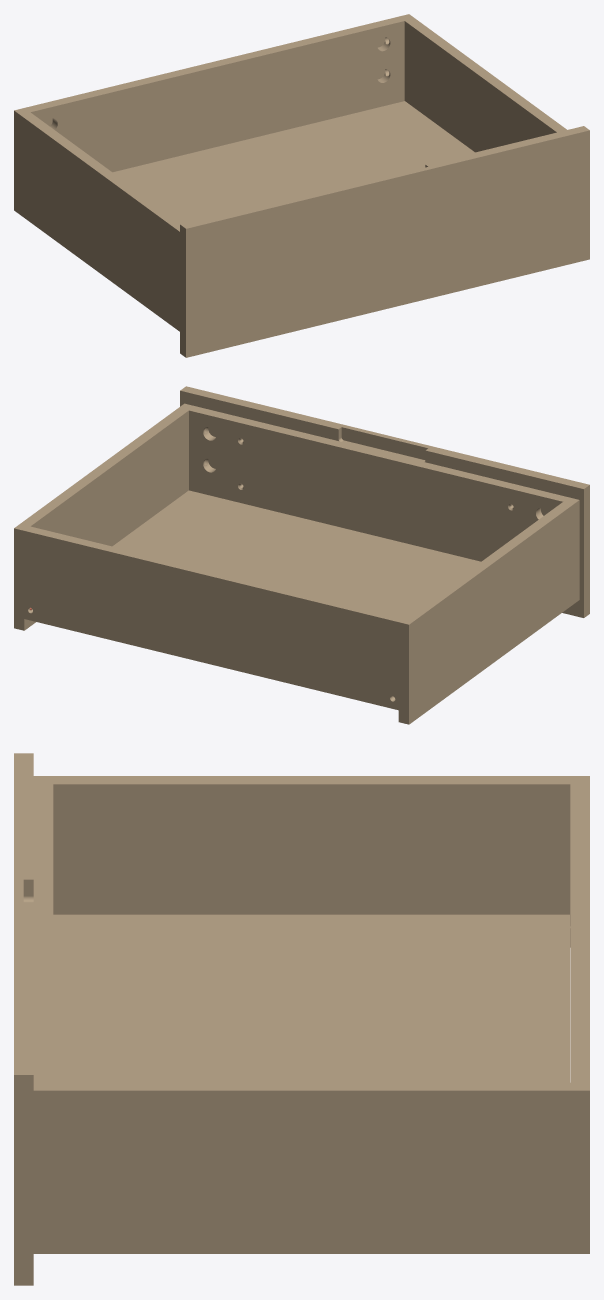
Rendered from ЯЩИК-И-НАПРАВЛЯЮЩИЕ.glb.
The picture shows the model from 3 angles, top to bottom: view 1: azimuth 30°, elevation 25°; view 2: azimuth 150°, elevation 25°; view 3: azimuth 270°, elevation 25°; orthographic projection. The views are drawn at different scales.
Parts seen in each view (by area): view 1: wood-face, wood-rear, wood-bottom, wood-left, wood-right; view 2: wood-rear, wood-front, wood-bottom, wood-left, wood-right, wood-face; view 3: wood-right, wood-bottom, wood-left, wood-face, wood-front, wood-rear.
Part boxes in pixels (x1,y1,x2,y2): wood-face: (180, 126, 589, 357); wood-rear: (25, 16, 404, 172); wood-bottom: (113, 101, 474, 223); wood-left: (14, 108, 182, 331); wood-right: (399, 14, 566, 152); wood-rear: (24, 526, 404, 710); wood-front: (189, 406, 568, 561); wood-bottom: (112, 490, 480, 617); wood-left: (398, 497, 579, 724); wood-right: (14, 403, 194, 630); wood-face: (180, 386, 589, 617); wood-right: (33, 1082, 589, 1253); wood-bottom: (53, 914, 569, 1082); wood-left: (33, 776, 589, 947); wood-face: (14, 753, 33, 1285); wood-front: (33, 784, 53, 1082); wood-rear: (570, 784, 589, 1082).
Size of the model in its own units: 0.465 by 0.142 by 0.352.
